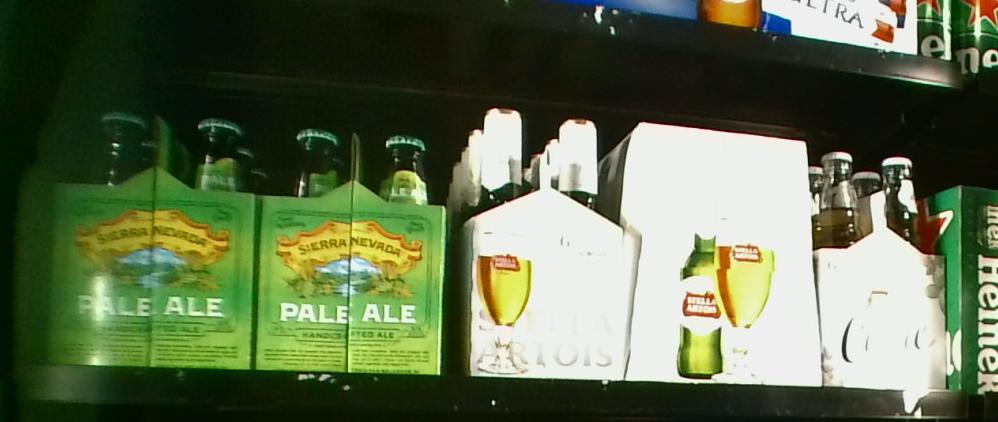bottle: (34, 111, 256, 373), (620, 123, 827, 383), (258, 125, 446, 372), (460, 107, 623, 370), (816, 150, 949, 388)
